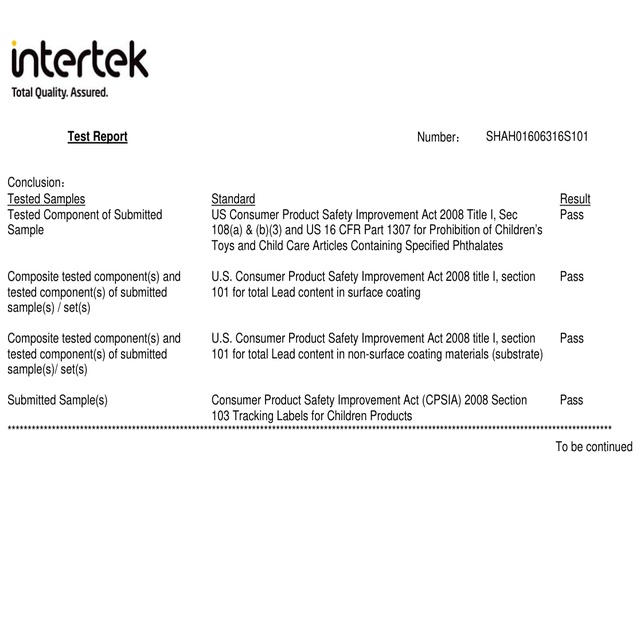intertek: (5, 35, 151, 82)
